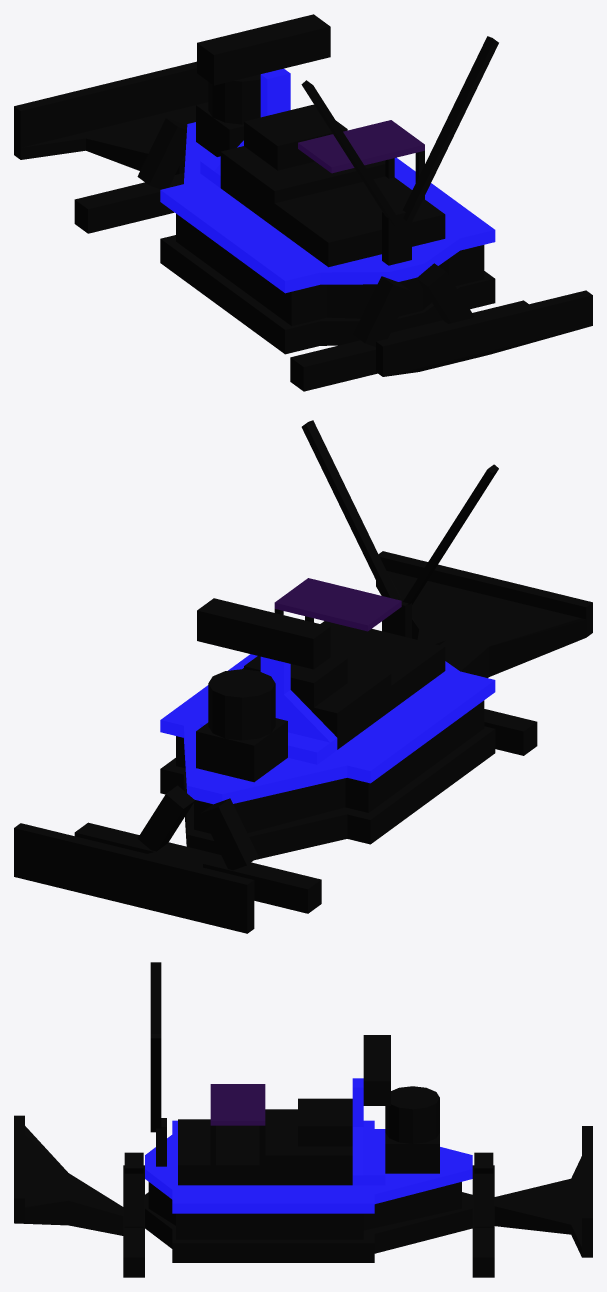
Rendered from BlueCar.dae.
3 renders of one model, top to bottom at view 1: azimuth 30°, elevation 25°; view 2: azimuth 150°, elevation 25°; view 3: azimuth 270°, elevation 25°, orthographic. The views are drawn at different scales.
Visible parts, largest first — view 1: Top Base Plate, VESC, Extension, Middle Plate, Bottom Base Plate, Camera, Cube, Bottom Piece, Base, Top Piece, Back Axle, Cooler (+11 smaller); view 2: Top Base Plate, Bottom Piece, Extension, Bottom Base Plate, Middle Plate, Camera, VESC, Front Axle, Circle, Powerboard, Top Piece, Cube (+12 smaller); view 3: Top Base Plate, Bottom Base Plate, Middle Plate, Bottom Piece, VESC, Cube, Base, Circle, Cooler, Powerboard, Camera, Cube.001 (+14 smaller).
Boxes of the visible parts, <box> form: Top Base Plate: <box>160,122,495,293</box>; VESC: <box>274,176,445,267</box>; Extension: <box>14,61,208,147</box>; Middle Plate: <box>176,213,484,325</box>; Bottom Base Plate: <box>160,235,495,354</box>; Camera: <box>197,14,330,85</box>; Cube: <box>220,146,385,227</box>; Bottom Piece: <box>376,307,592,376</box>; Base: <box>14,105,195,174</box>; Top Piece: <box>376,290,592,358</box>; Back Axle: <box>290,300,528,391</box>; Cooler: <box>244,104,347,170</box>; Top Base Plate: <box>160,654,495,804</box>; Bottom Piece: <box>376,571,592,677</box>; Extension: <box>14,823,254,921</box>; Bottom Base Plate: <box>160,726,495,859</box>; Middle Plate: <box>176,700,484,833</box>; Camera: <box>197,598,330,669</box>; VESC: <box>320,621,445,709</box>; Front Axle: <box>74,822,321,913</box>; Circle: <box>208,669,275,740</box>; Powerboard: <box>274,578,401,631</box>; Top Piece: <box>378,551,592,619</box>; Cube: <box>242,663,391,749</box>; Top Base Plate: <box>145,1120,472,1213</box>; Bottom Base Plate: <box>145,1192,472,1262</box>; Middle Plate: <box>148,1182,461,1239</box>; Bottom Piece: <box>14,1126,123,1235</box>; VESC: <box>178,1119,265,1185</box>; Cube: <box>265,1109,352,1185</box>; Base: <box>494,1156,592,1257</box>; Circle: <box>385,1086,439,1143</box>; Cooler: <box>298,1098,352,1146</box>; Powerboard: <box>210,1084,265,1125</box>; Camera: <box>363,1035,390,1105</box>; Cube.001: <box>385,1133,439,1173</box>.
Bounding box in the file's own units: 0.2 × 0.53 × 0.2356.
